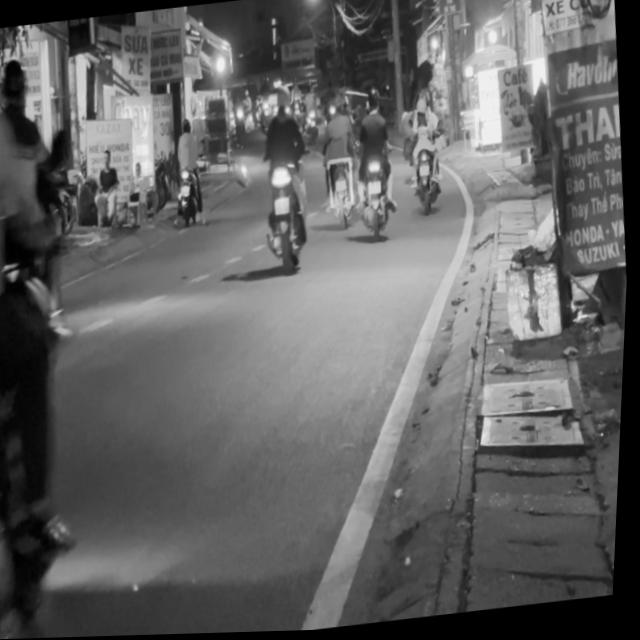licenseplate: (0, 19, 109, 640)
